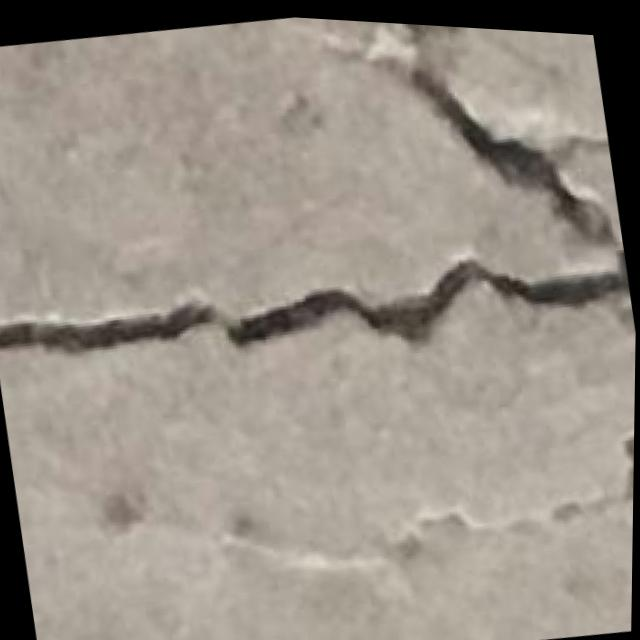Crack: (0, 0, 636, 418), (14, 361, 636, 632)
